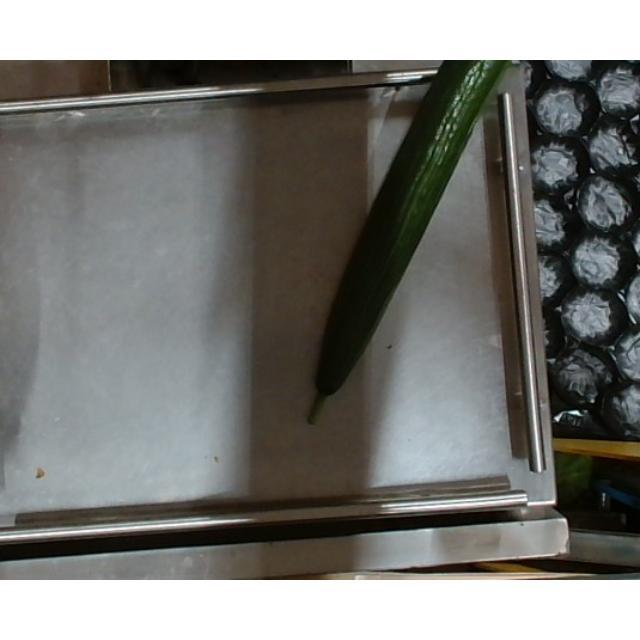cucumber: (306, 61, 514, 426)
